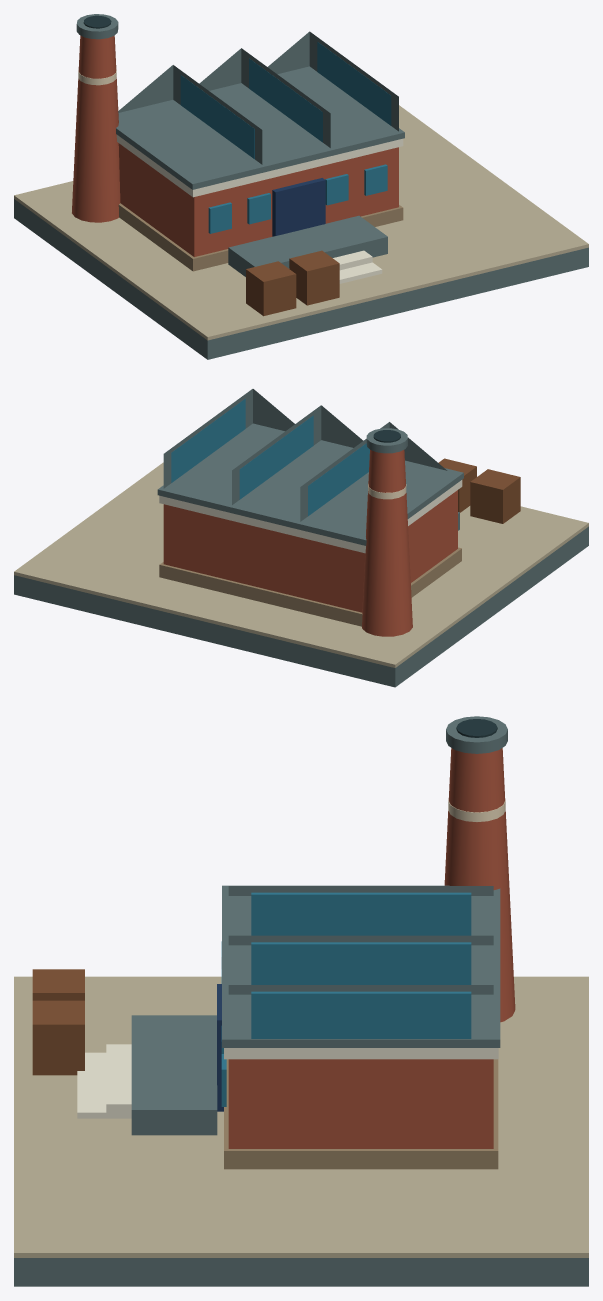
File: factory-lv1.glb
3 renders of one model, top to bottom at view 1: azimuth 30°, elevation 25°; view 2: azimuth 150°, elevation 25°; view 3: azimuth 270°, elevation 25°, orthographic. The views are drawn at different scales.
Parts seen in each view (by area): view 1: foundation_paving, main_workshop_roof_iron, main_workshop_clay, foundation_iron, chimney_clay, main_workshop_skylights_glass, main_workshop_sawtooth_iron, loading_platform_iron, supply_crates_wood, main_workshop_windows_glass, main_workshop_loading_door_naval, main_workshop_white (+3 smaller); view 2: foundation_paving, main_workshop_clay, main_workshop_roof_iron, foundation_iron, chimney_clay, main_workshop_skylights_glass, main_workshop_sawtooth_iron, main_workshop_stoneDark, supply_crates_wood, main_workshop_white, chimney_cap_iron; view 3: foundation_paving, main_workshop_skylights_glass, main_workshop_clay, foundation_iron, main_workshop_roof_iron, loading_platform_iron, chimney_clay, main_workshop_stoneDark, main_workshop_sawtooth_iron, supply_crates_wood, entrance_steps_white, main_workshop_white (+1 smaller).
Boxes of the visible parts, left/top/right/bottom form: foundation_paving: left=14, top=105, right=588, bottom=340; main_workshop_roof_iron: left=116, top=66, right=404, bottom=189; main_workshop_clay: left=118, top=143, right=398, bottom=256; foundation_iron: left=14, top=199, right=588, bottom=359; chimney_clay: left=72, top=35, right=120, bottom=222; main_workshop_skylights_glass: left=180, top=42, right=391, bottom=159; main_workshop_sawtooth_iron: left=118, top=31, right=398, bottom=164; loading_platform_iron: left=228, top=215, right=387, bottom=276; supply_crates_wood: left=246, top=250, right=339, bottom=316; main_workshop_windows_glass: left=208, top=164, right=387, bottom=233; main_workshop_loading_door_naval: left=272, top=178, right=325, bottom=236; main_workshop_white: left=116, top=135, right=403, bottom=197; foundation_paving: left=14, top=462, right=588, bottom=667; main_workshop_clay: left=163, top=490, right=457, bottom=612; main_workshop_roof_iron: left=157, top=423, right=463, bottom=545; foundation_iron: left=14, top=526, right=588, bottom=687; chimney_clay: left=362, top=450, right=412, bottom=636; main_workshop_skylights_glass: left=171, top=398, right=369, bottom=516; main_workshop_sawtooth_iron: left=163, top=389, right=447, bottom=521; main_workshop_stoneDark: left=159, top=547, right=461, bottom=626; supply_crates_wood: left=438, top=458, right=520, bottom=523; main_workshop_white: left=159, top=480, right=462, bottom=553; chimney_cap_iron: left=366, top=428, right=407, bottom=453; foundation_paving: left=14, top=976, right=588, bottom=1257; main_workshop_skylights_glass: left=251, top=892, right=471, bottom=1038; main_workshop_clay: left=228, top=1059, right=493, bottom=1148; foundation_iron: left=14, top=1258, right=588, bottom=1286; main_workshop_roof_iron: left=222, top=885, right=500, bottom=1047; loading_platform_iron: left=131, top=1015, right=217, bottom=1135; chimney_clay: left=444, top=748, right=515, bottom=1022; main_workshop_stoneDark: left=224, top=1059, right=498, bottom=1169; main_workshop_sawtooth_iron: left=228, top=886, right=493, bottom=994; supply_crates_wood: left=32, top=969, right=84, bottom=1075; entrance_steps_white: left=77, top=1044, right=131, bottom=1118; main_workshop_white: left=224, top=1048, right=498, bottom=1059.
Size of the model in its own units: 1 by 0.534 by 0.88.
